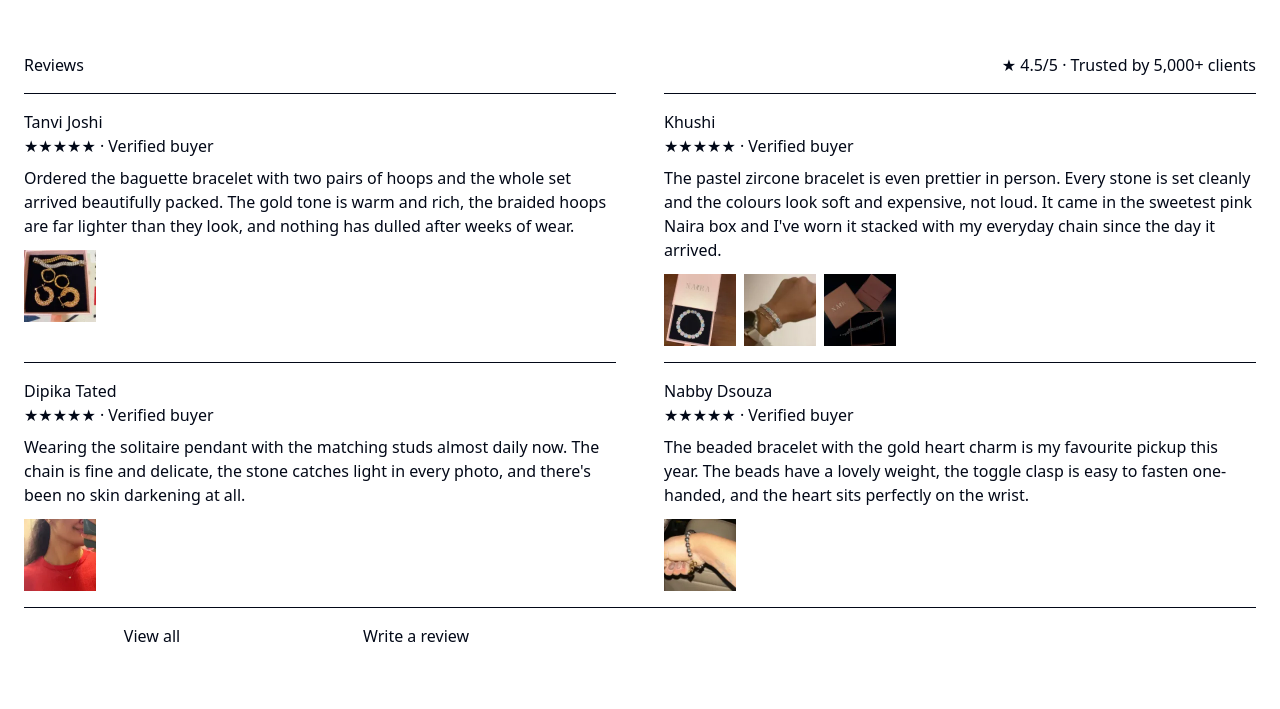
PdpReviews: the product page's reviews › shows the rest in place from View all, and never a review from the dealt bank or the bundled lists
Click the button "View all" at (152, 636), box [24, 624, 280, 648]
(page scrolled)
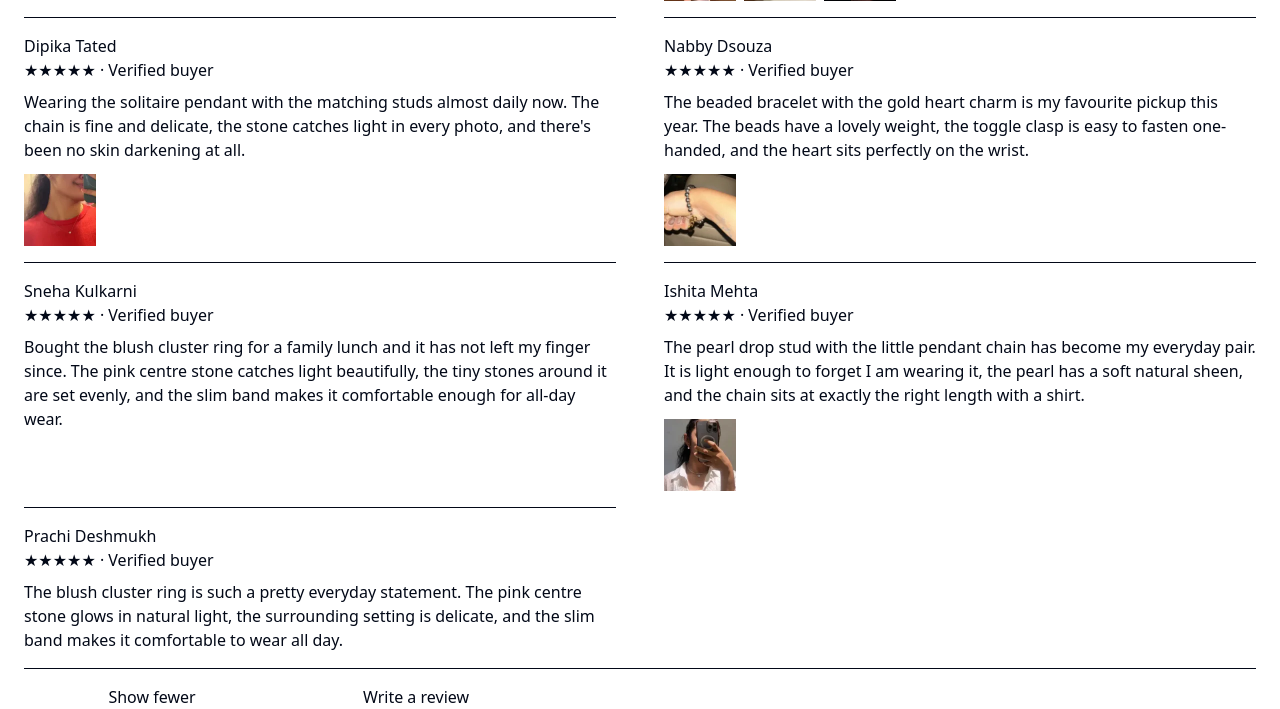
Check: the button "Show fewer" is expanded, box [24, 685, 280, 708]
